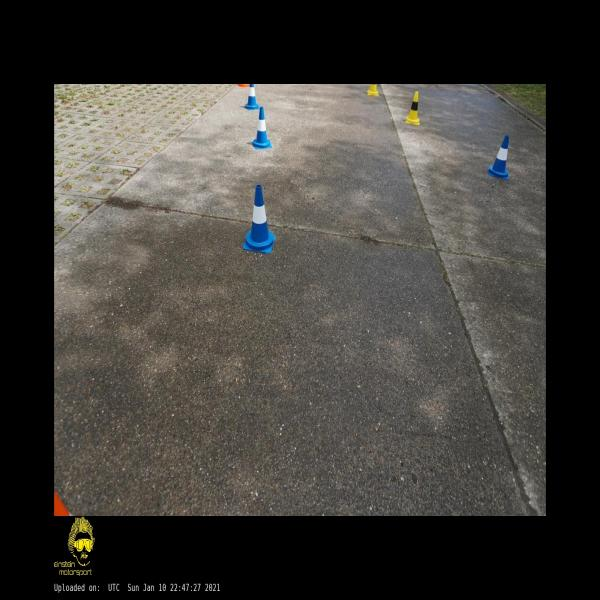blue_cone: (243, 185, 275, 252), (488, 135, 509, 180), (252, 107, 272, 149), (244, 84, 260, 109)
yellow_cone: (405, 91, 420, 125), (367, 84, 378, 95)
